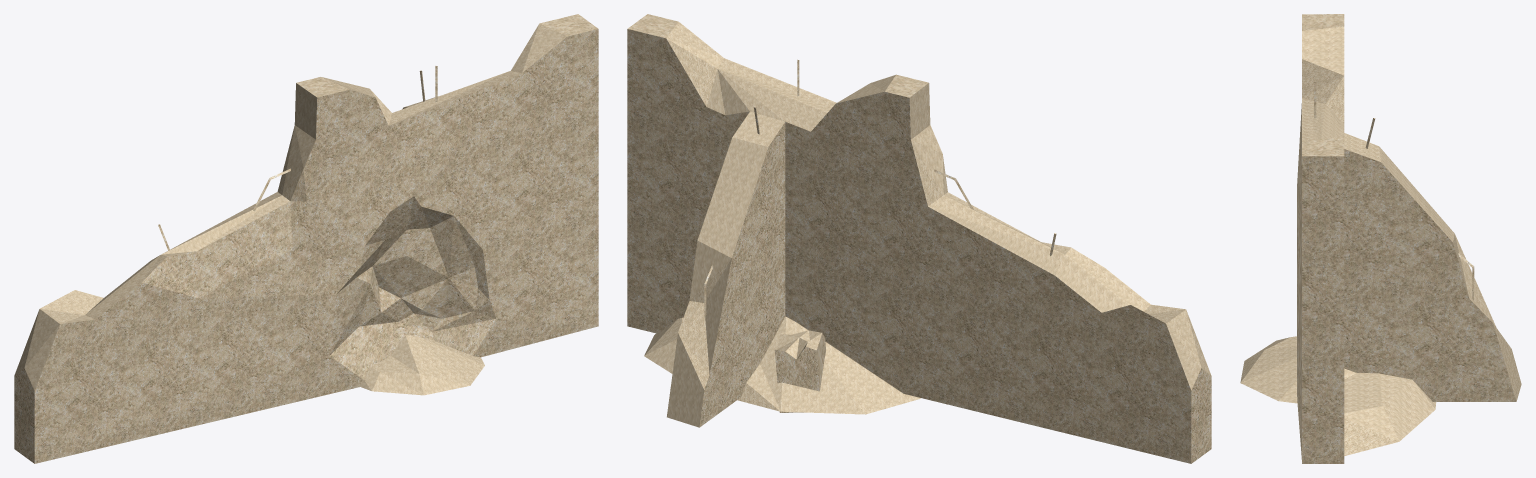
Rendered from thm_tato_imprv_wall_ruin_s03_l1.fbx.
3 renders of one model, left to right at view 1: azimuth 30°, elevation 25°; view 2: azimuth 150°, elevation 25°; view 3: azimuth 270°, elevation 25°, orthographic. The views are drawn at different scales.
Parts seen in each view (by area): view 1: mesh_node; view 2: mesh_node; view 3: mesh_node.
Boxes of the visible parts, x1,y1,x2,y2 form: mesh_node: [14, 14, 598, 463]; mesh_node: [627, 14, 1211, 463]; mesh_node: [1240, 14, 1521, 463].
Bounding box in the file's own units: 8 × 4.32 × 3.34.
